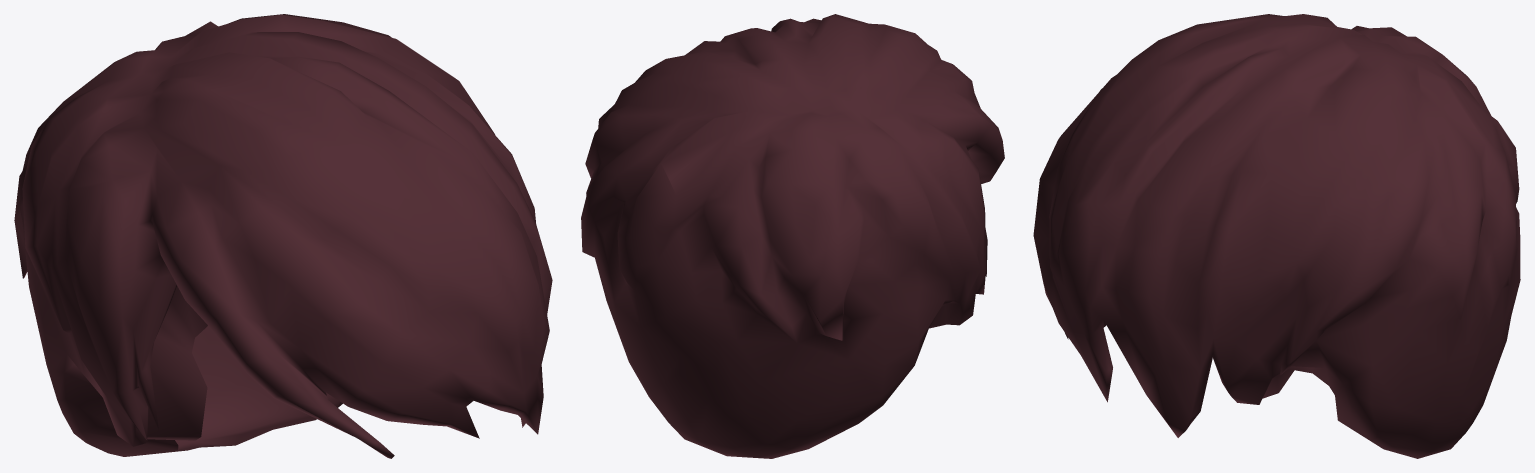
Rendered from man-hair-3.glb.
3 renders of one model, left to right at view 1: azimuth 30°, elevation 25°; view 2: azimuth 150°, elevation 25°; view 3: azimuth 270°, elevation 25°, orthographic. The views are drawn at different scales.
Visible parts, largest first — view 1: 5; view 2: 5; view 3: 5.
Boxes of the visible parts, x1,y1,x2,y2 form: 5: [14, 14, 552, 458]; 5: [581, 14, 1004, 458]; 5: [1033, 14, 1520, 458].
Bounding box in the file's own units: 0.1971 × 0.1961 × 0.217.
